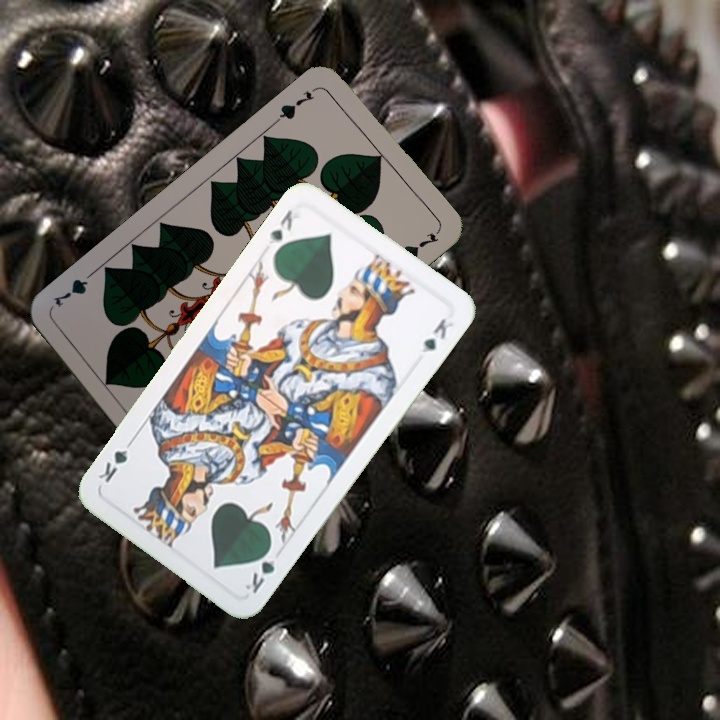G7: (271, 87, 317, 126)
GK: (240, 541, 278, 597), (264, 206, 302, 249)
